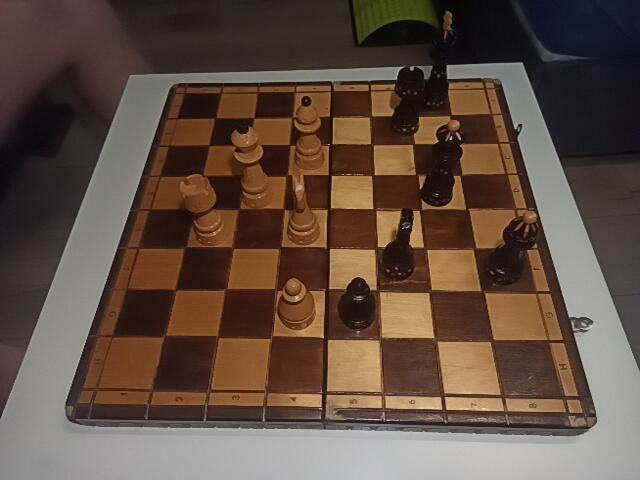B-Bishop: (488, 209, 538, 285)
B-King: (426, 12, 453, 109)
B-Knight: (382, 208, 419, 281)
B-Pawn: (338, 278, 377, 330)
B-Queen: (424, 120, 462, 207)
B-Rook: (391, 67, 422, 134)
W-Bishop: (293, 96, 327, 169)
W-Knight: (288, 173, 321, 243)
W-Pawn: (279, 279, 315, 329)
W-Queen: (230, 124, 273, 207)
W-Rook: (178, 174, 227, 245)
